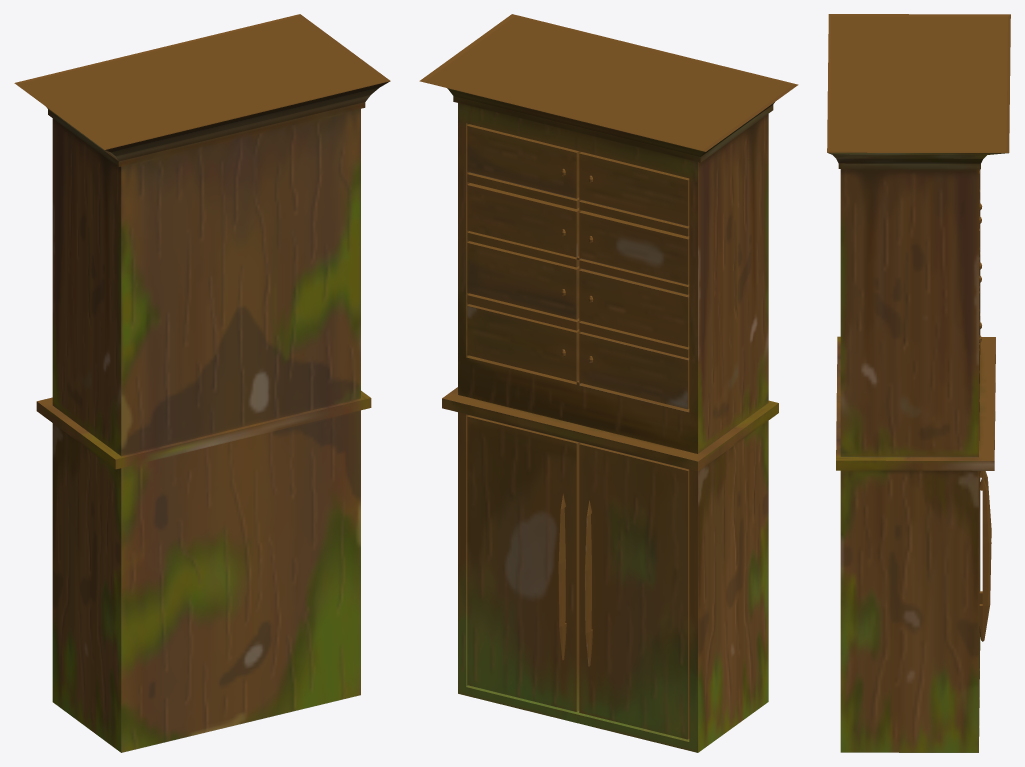
Rendered from Cabinet.fbx.
3 views of the same model, side by side, from view 1: azimuth 30°, elevation 25°; view 2: azimuth 150°, elevation 25°; view 3: azimuth 270°, elevation 25° (orthographic).
Parts seen in each view (by area): view 1: Sphere; view 2: Sphere; view 3: Sphere.
Boxes of the visible parts, bbox=[...] form: Sphere: bbox=[14, 14, 390, 752]; Sphere: bbox=[419, 14, 798, 752]; Sphere: bbox=[827, 14, 1010, 752].
Bounding box in the file's own units: 562 × 1151 × 314.
Materials: 1 (1 with a texture image).
